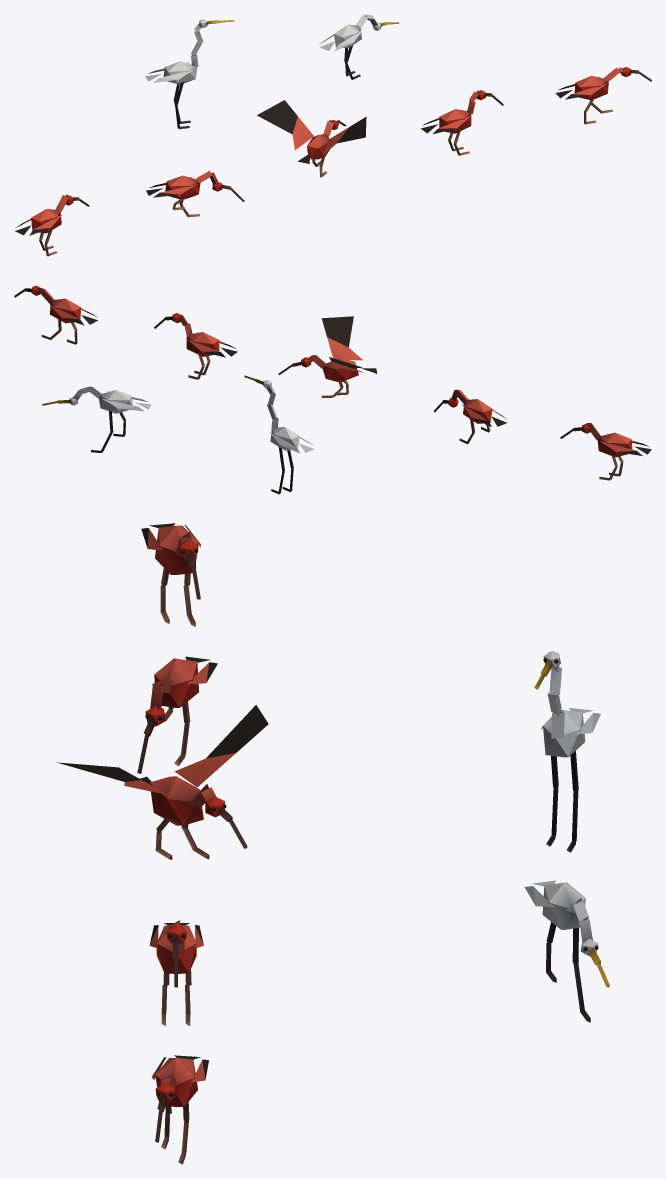
File: garzas_corocoras.glb
3 views of the same model, one above another, from view 1: azimuth 30°, elevation 25°; view 2: azimuth 150°, elevation 25°; view 3: azimuth 270°, elevation 25° (orthographic). The views are drawn at different scales.
Visible parts, largest first — view 1: ibis_3, garza_1, ibis_2, ibis_5, ibis_4, ibis_1, garza_2; view 2: ibis_3, garza_2, garza_1, ibis_1, ibis_4, ibis_5, ibis_2; view 3: ibis_3, garza_1, garza_2, ibis_2, ibis_1, ibis_5, ibis_4.
Part boxes in pixels (box(x1,y1,x2,y2)): ibis_3: box(257, 100, 366, 177); garza_1: box(145, 19, 234, 129); ibis_2: box(146, 171, 244, 217); ibis_5: box(555, 67, 651, 124); ibis_4: box(421, 90, 503, 155); ibis_1: box(15, 194, 89, 256); garza_2: box(319, 14, 399, 79); ibis_3: box(278, 316, 377, 397); garza_2: box(42, 386, 151, 452); garza_1: box(244, 375, 314, 494); ibis_1: box(560, 423, 651, 480); ibis_4: box(154, 313, 237, 379); ibis_5: box(14, 285, 97, 344); ibis_2: box(434, 389, 506, 444); ibis_3: box(57, 705, 268, 859); garza_1: box(534, 651, 600, 852); garza_2: box(524, 880, 609, 1022); ibis_2: box(137, 656, 217, 773); ibis_1: box(141, 523, 200, 626); ibis_5: box(152, 1055, 208, 1164); ibis_4: box(149, 920, 203, 1025).
Size of the model in its own units: 60.37 by 9.58 by 22.85.
